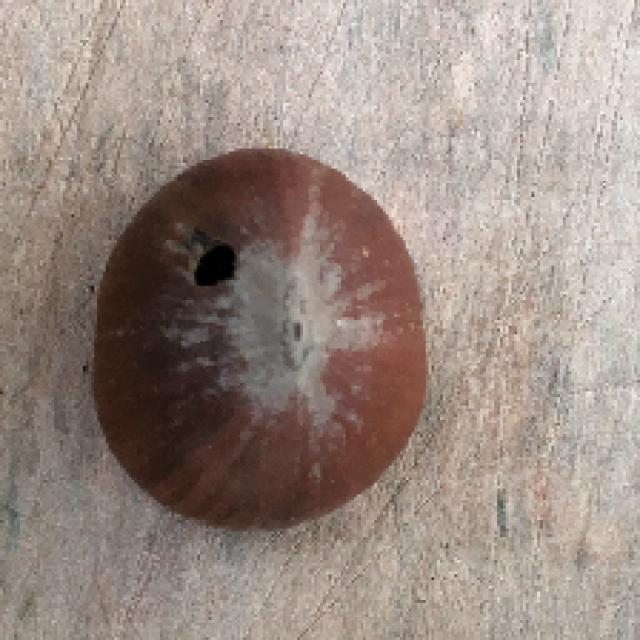damagedHazelnut: (87, 143, 434, 528)
